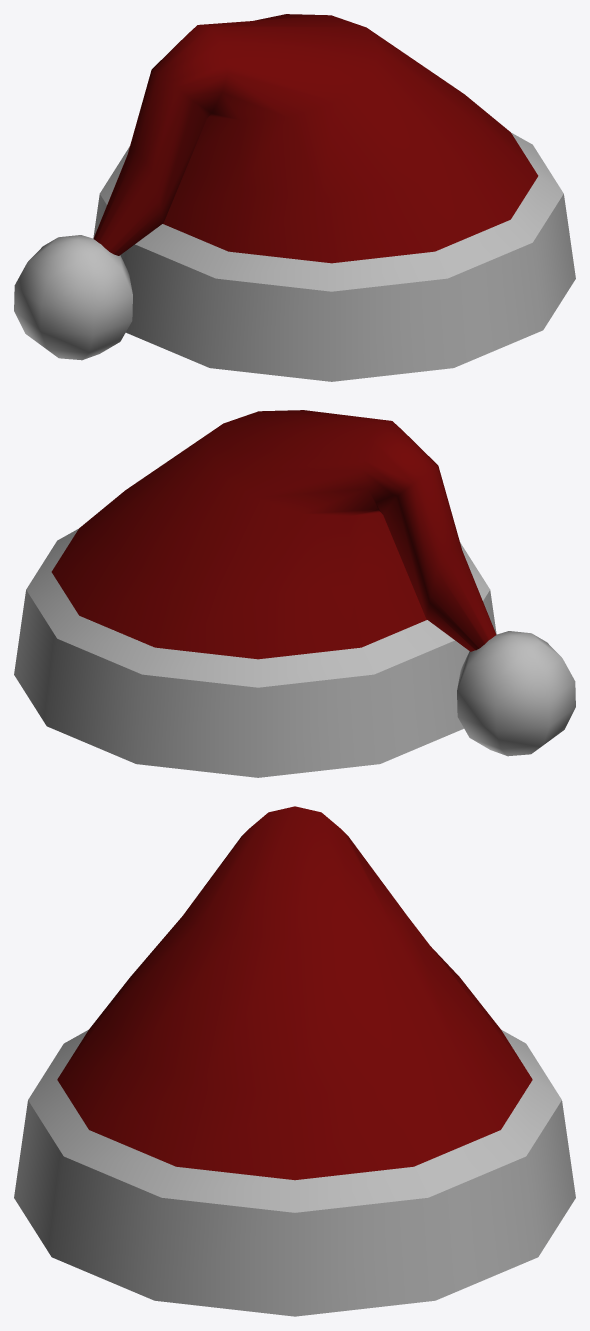
Rendered from hat_santa.glb.
The picture shows the model from 3 angles, top to bottom: view 1: azimuth 30°, elevation 25°; view 2: azimuth 150°, elevation 25°; view 3: azimuth 270°, elevation 25°; orthographic projection. The views are drawn at different scales.
Visible parts, largest first — view 1: hat_santa; view 2: hat_santa; view 3: hat_santa.
Boxes of the visible parts, <box> form: hat_santa: <box>14,14,575,381</box>; hat_santa: <box>14,410,575,777</box>; hat_santa: <box>14,806,575,1316</box>.
Bounding box in the file's own units: 0.4429 × 0.2414 × 0.3631.
